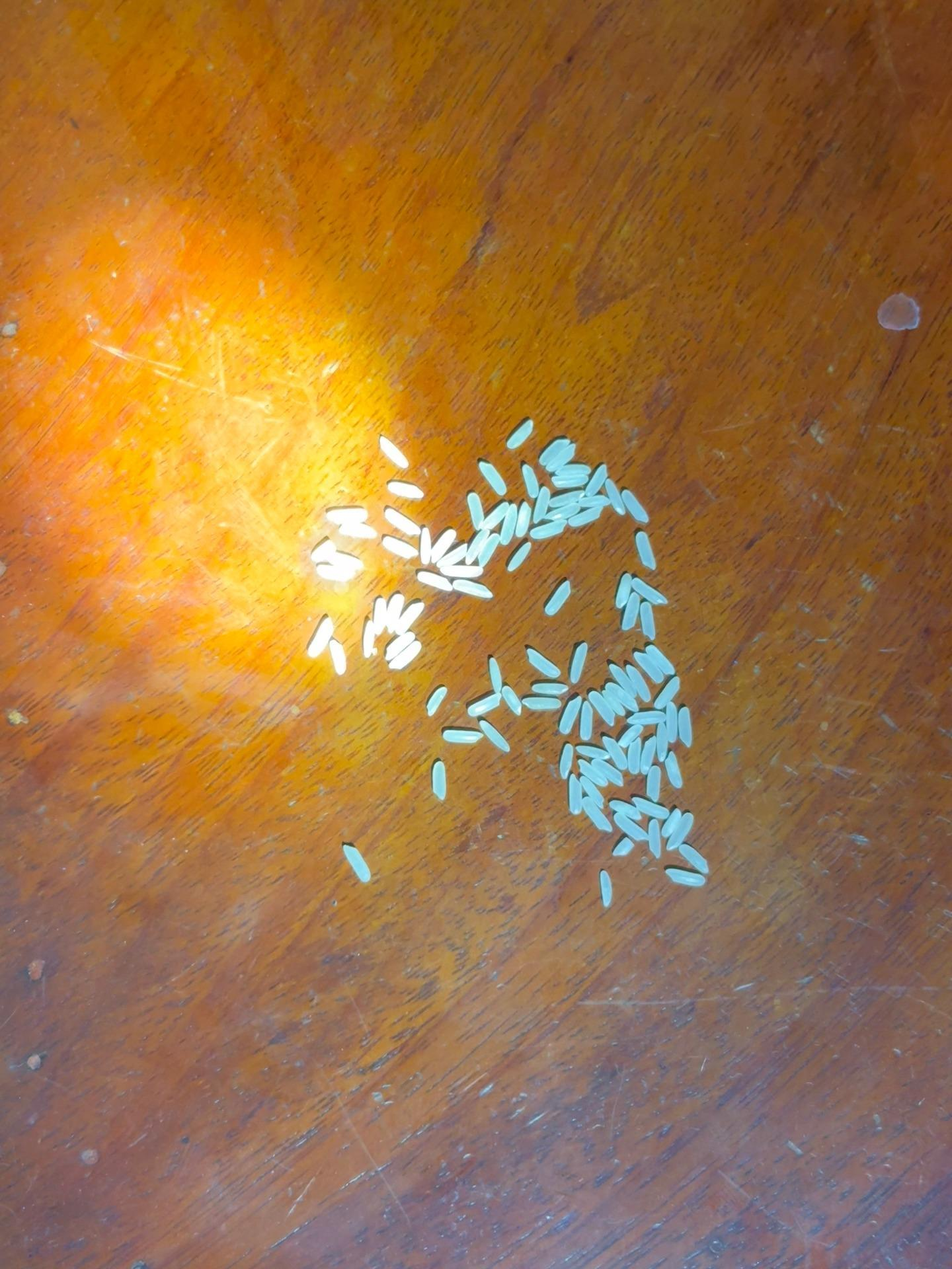Rice-th-y-nh: (582, 797, 613, 833), (308, 617, 335, 658), (526, 648, 561, 679), (384, 508, 421, 536), (343, 845, 371, 882), (479, 720, 510, 753), (609, 664, 638, 699), (394, 602, 424, 635), (389, 641, 422, 671), (614, 813, 648, 842), (632, 578, 668, 605), (621, 489, 649, 523), (545, 581, 572, 616), (667, 815, 693, 851), (379, 437, 409, 468), (634, 652, 664, 683), (592, 758, 624, 787), (384, 631, 416, 660), (627, 665, 652, 702), (479, 462, 507, 495), (654, 676, 681, 710), (430, 529, 456, 564), (679, 844, 709, 874), (465, 529, 490, 565), (607, 684, 639, 712), (589, 691, 615, 725), (559, 696, 582, 734), (647, 644, 675, 675), (538, 439, 570, 466), (498, 504, 519, 545), (580, 776, 606, 809), (547, 444, 576, 473), (578, 759, 608, 787), (453, 579, 494, 599), (603, 736, 627, 770), (633, 797, 669, 819), (480, 503, 509, 530), (507, 420, 534, 449), (638, 736, 658, 775), (635, 532, 656, 569), (568, 506, 605, 527), (620, 594, 641, 631), (382, 536, 417, 558), (584, 465, 608, 497), (417, 571, 453, 592), (666, 868, 705, 887), (638, 602, 658, 639), (570, 643, 588, 684), (468, 694, 501, 716), (507, 543, 532, 572), (664, 752, 684, 788), (531, 519, 567, 539), (316, 564, 356, 582), (610, 799, 642, 821), (532, 487, 551, 524), (328, 551, 363, 571), (478, 535, 500, 566), (677, 707, 694, 747), (467, 493, 485, 530), (386, 594, 404, 631), (605, 479, 624, 514), (437, 545, 467, 567), (664, 702, 680, 743), (326, 508, 367, 524), (426, 686, 447, 716), (545, 503, 580, 521), (625, 739, 643, 774), (329, 640, 347, 675), (340, 522, 377, 539), (515, 502, 532, 538), (549, 490, 583, 508), (615, 574, 633, 608), (661, 809, 682, 838), (654, 723, 670, 761), (440, 564, 483, 578), (618, 724, 643, 748), (579, 701, 594, 741), (645, 766, 662, 801), (387, 482, 424, 498), (568, 775, 583, 814), (432, 761, 447, 800), (502, 686, 522, 715), (522, 464, 539, 498), (532, 681, 568, 697), (648, 820, 663, 858), (628, 711, 665, 726), (523, 696, 560, 711), (311, 541, 337, 562), (443, 729, 482, 743), (559, 744, 575, 778), (488, 658, 503, 694), (372, 598, 387, 634), (604, 691, 625, 716), (362, 621, 376, 658), (419, 527, 433, 564), (556, 463, 590, 478), (599, 871, 613, 907), (576, 745, 609, 760), (552, 475, 587, 488), (579, 495, 610, 509), (613, 838, 633, 856)
